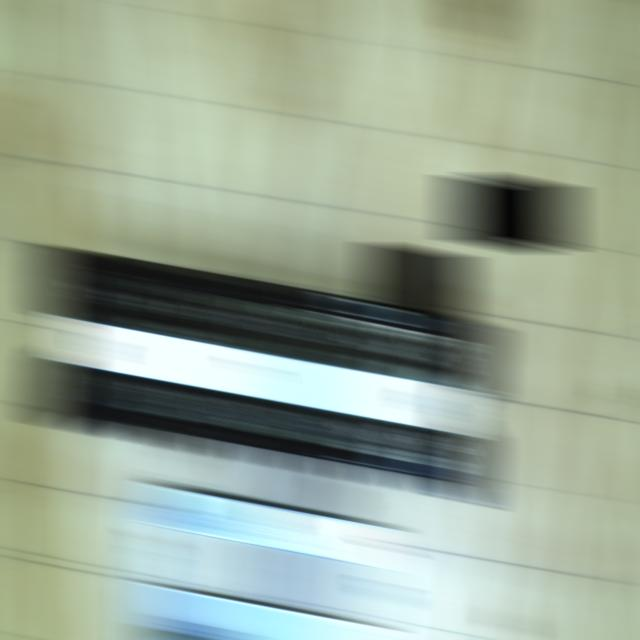Phillips_Block: (11, 247, 513, 505)
